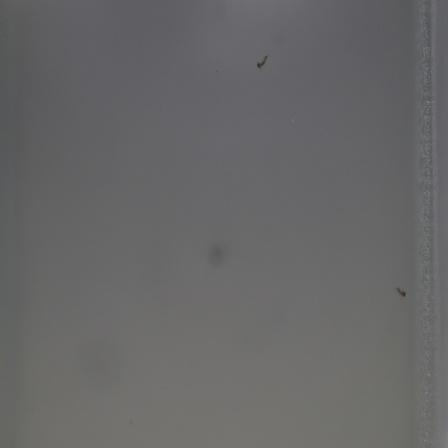Jentik-Nyamuk: (392, 281, 410, 300), (254, 52, 270, 73)
